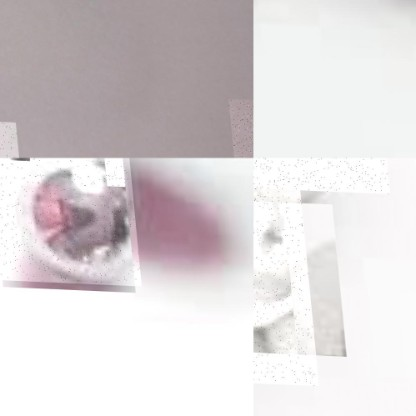ironball: (0, 157, 138, 284), (253, 163, 313, 384), (253, 157, 388, 191), (225, 96, 253, 157), (0, 120, 16, 157)
